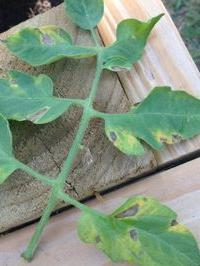Tomato Early blight leaf: (79, 195, 197, 266), (101, 90, 200, 156), (101, 4, 169, 76), (0, 69, 75, 125), (0, 27, 91, 66)
Tomato leaf: (61, 0, 108, 30)
